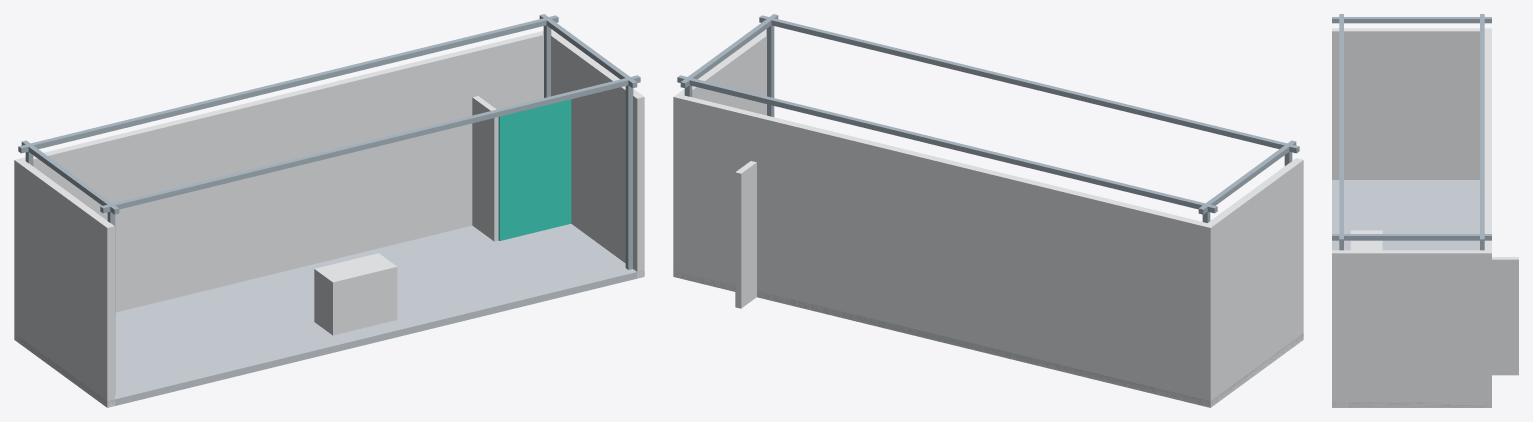
3 renders of one model, left to right at view 1: azimuth 30°, elevation 25°; view 2: azimuth 150°, elevation 25°; view 3: azimuth 270°, elevation 25°, orthographic. The views are drawn at different scales.
Parts seen in each view (by area): view 1: Exhibition Booth Concept; view 2: Exhibition Booth Concept; view 3: Exhibition Booth Concept.
Part boxes in pixels (box(x1,y1,x2,y2)): Exhibition Booth Concept: box(14, 14, 644, 407); Exhibition Booth Concept: box(673, 14, 1303, 407); Exhibition Booth Concept: box(1332, 14, 1518, 407).
Bounding box in the file's own units: 10 × 3.49 × 3.51.
